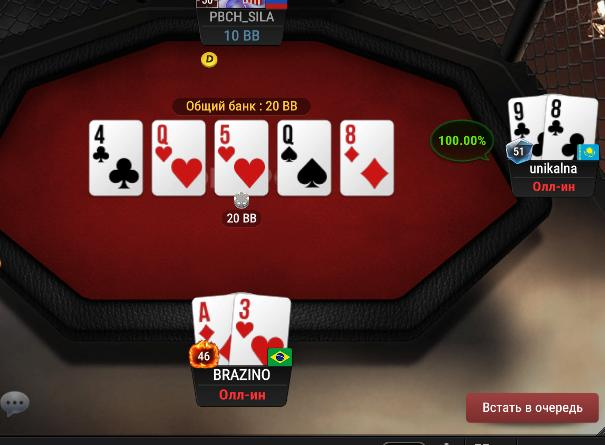3h: (233, 291, 291, 362)
4c: (89, 119, 142, 195)
5h: (216, 122, 268, 194)
8c: (544, 94, 597, 159)
8d: (341, 122, 394, 195)
9c: (509, 96, 544, 160)
Ad: (187, 293, 231, 366)
Qh: (152, 120, 206, 196)
Qs: (278, 120, 330, 195)
